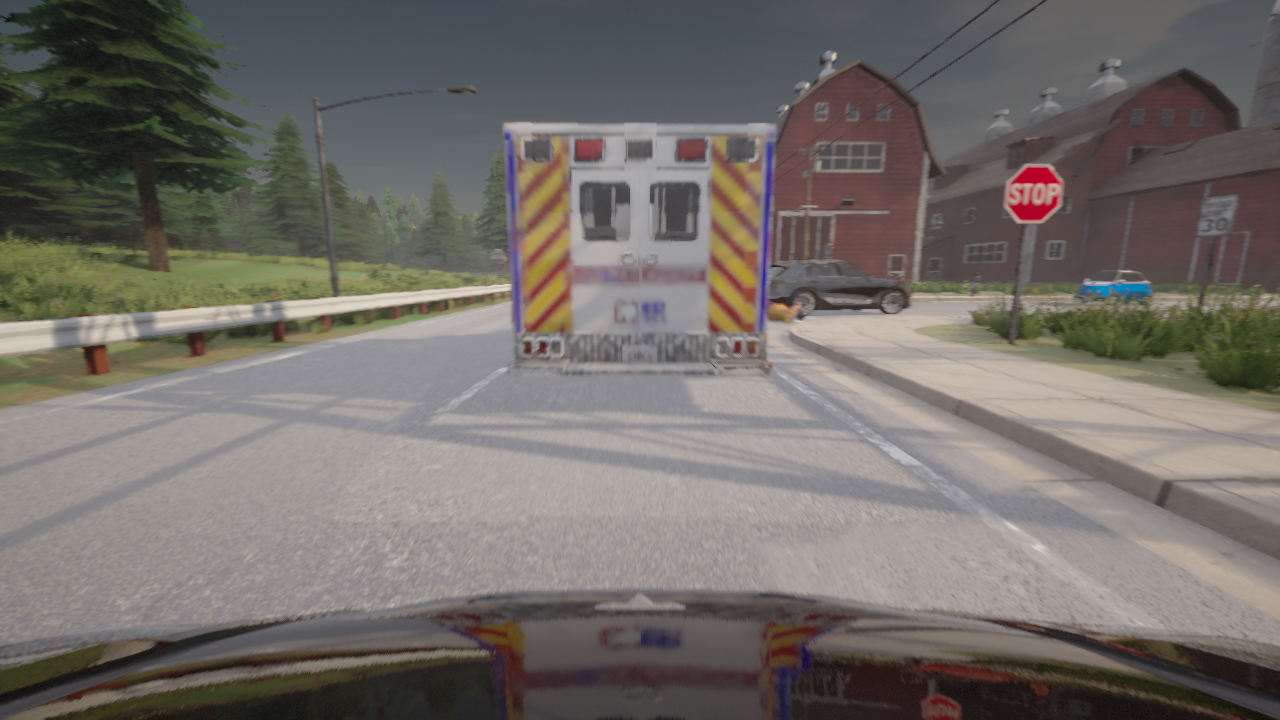cyclist: (0, 588, 1279, 719), (503, 123, 776, 375), (768, 260, 911, 316), (1074, 270, 1151, 305)
pedestrian: (767, 294, 805, 322), (970, 272, 979, 295)
